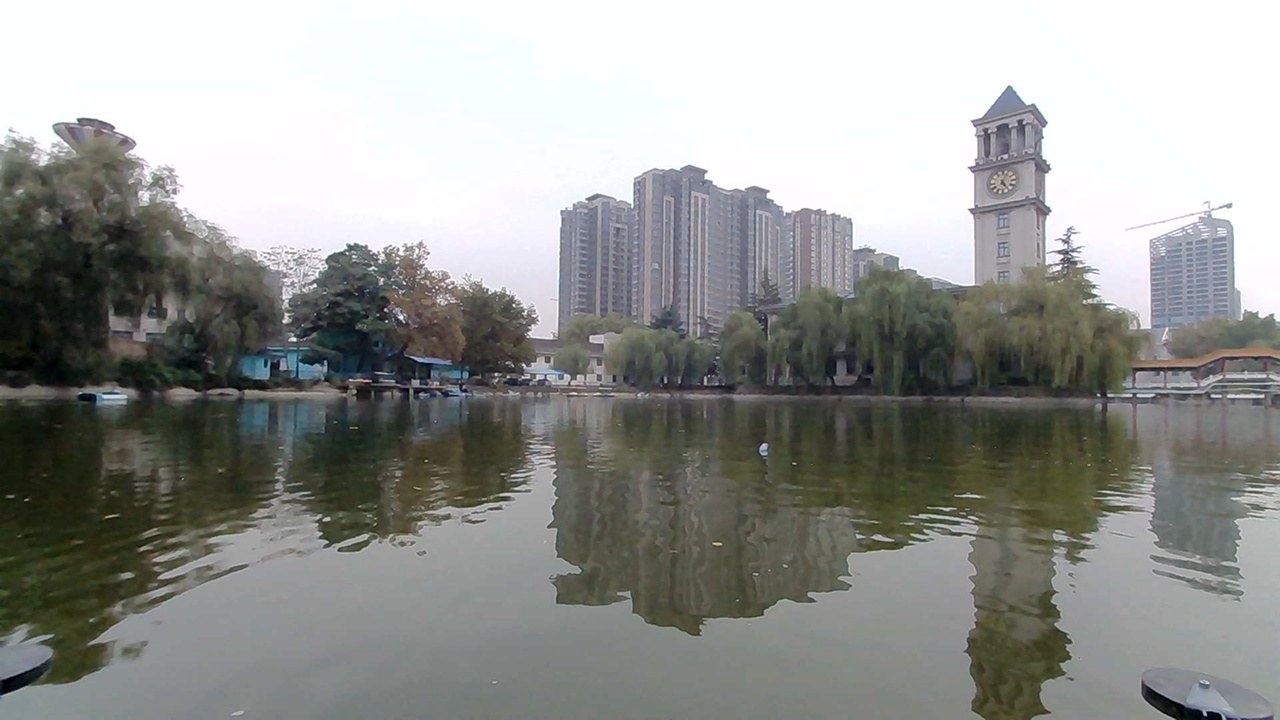bottle: (727, 429, 779, 461)
